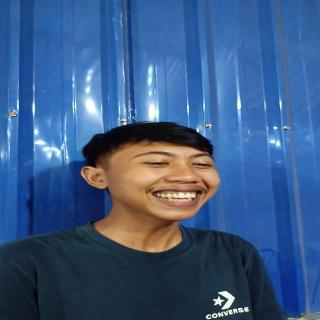Senang: (87, 133, 232, 224)
